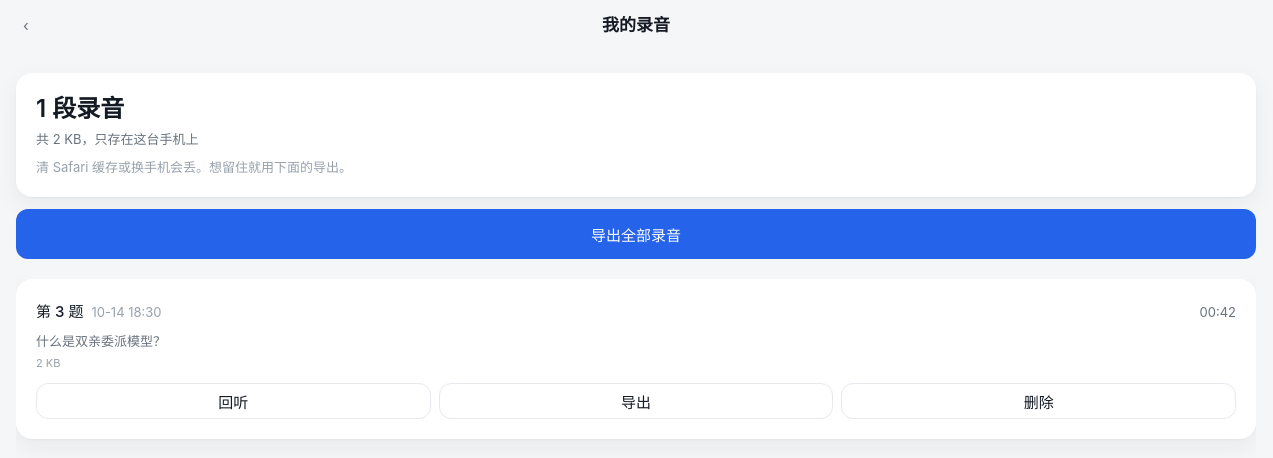
Test: Clips · 回听 › 点回听开始放，再点停止
Check: the text "1 段录音" is shown, box [36,94,124,123]
Click the button "回听": (233, 401) [36,383,431,419]
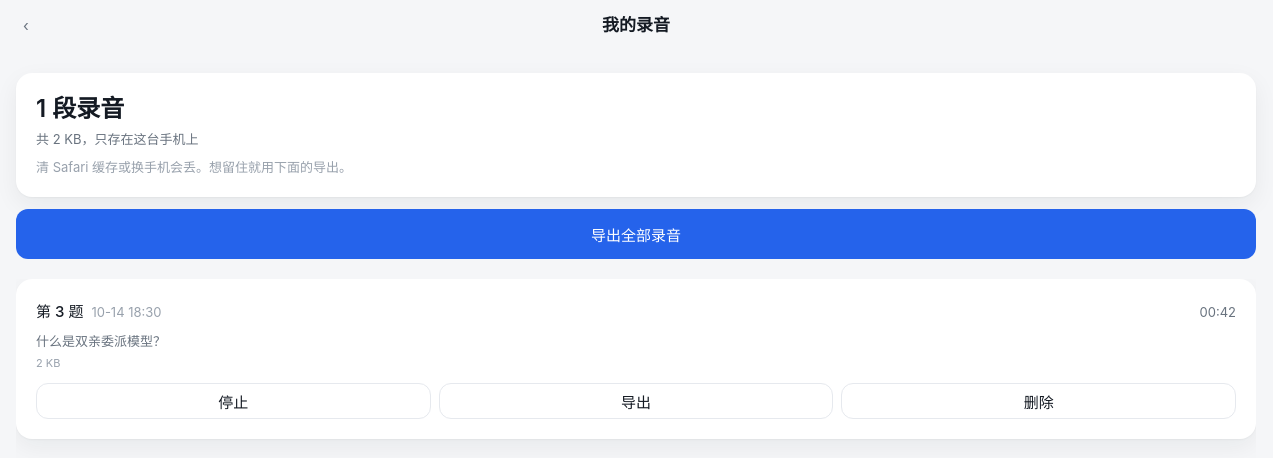
Check: the button "停止" is shown
Click the button "停止": (233, 401) [36,383,431,419]
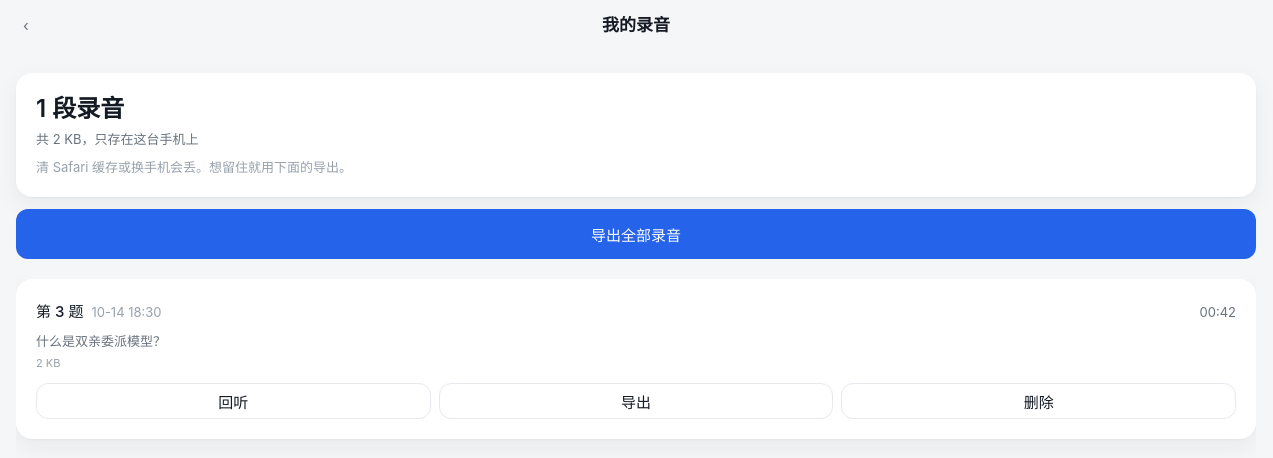
Check: the button "回听" is shown, box [36,383,431,419]
